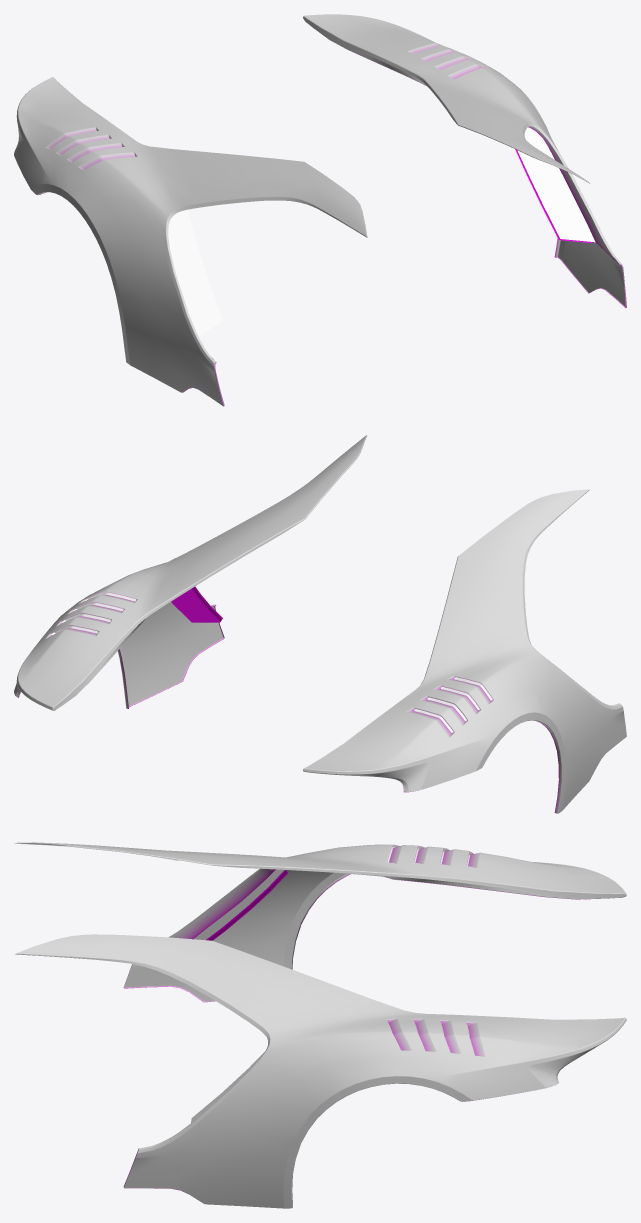
File: Car_Ford_GT_2017_FendersR_SetF.fbx
The picture shows the model from 3 angles, top to bottom: view 1: azimuth 30°, elevation 25°; view 2: azimuth 150°, elevation 25°; view 3: azimuth 270°, elevation 25°; orthographic projection.
Visible parts, largest first — view 1: FendersR 6; view 2: FendersR 6; view 3: FendersR 6.
Part boxes in pixels (bbox=[...]): FendersR 6: bbox=[14, 14, 626, 406]; FendersR 6: bbox=[14, 435, 626, 813]; FendersR 6: bbox=[14, 842, 626, 1208].
Size of the model in its own units: 2 by 0.8915 by 2.33.
